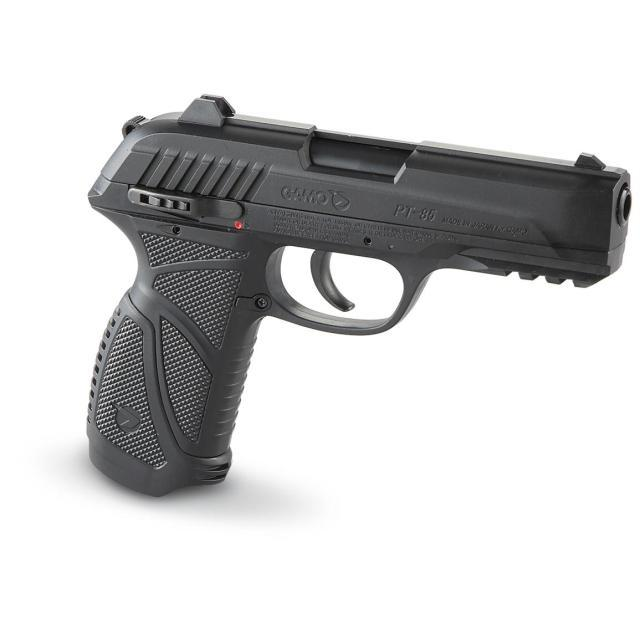Pistol: (37, 54, 632, 540)
